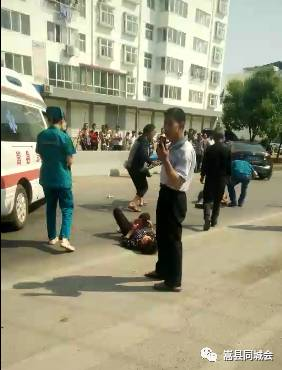fall: (108, 200, 165, 257)
